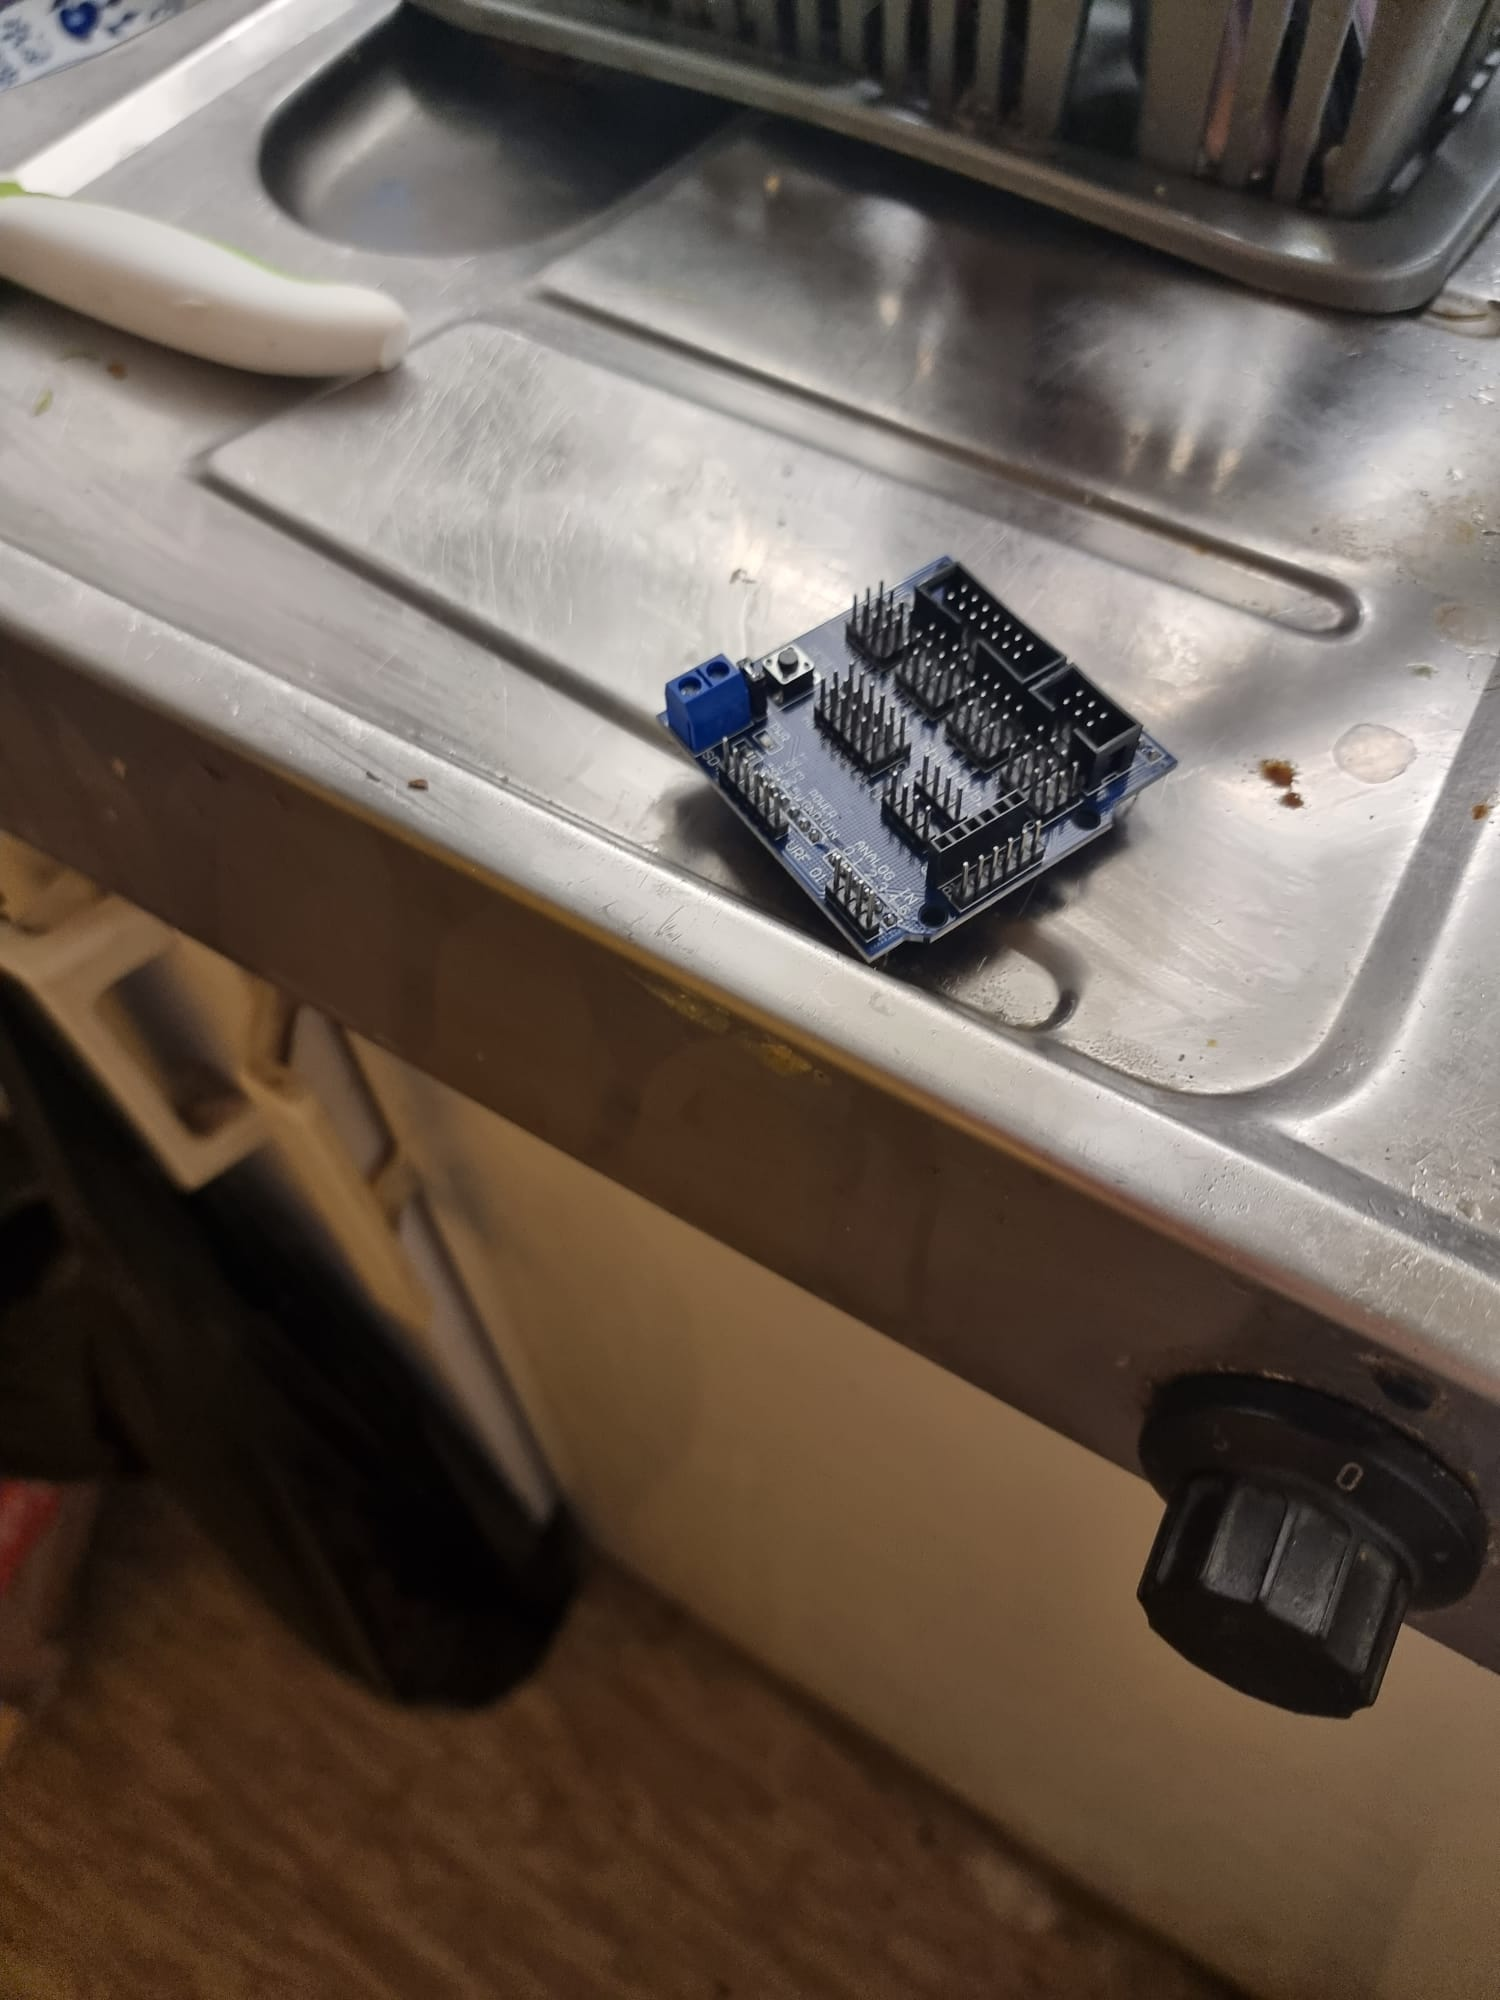5V EXPANSION: (684, 543, 1186, 957)
